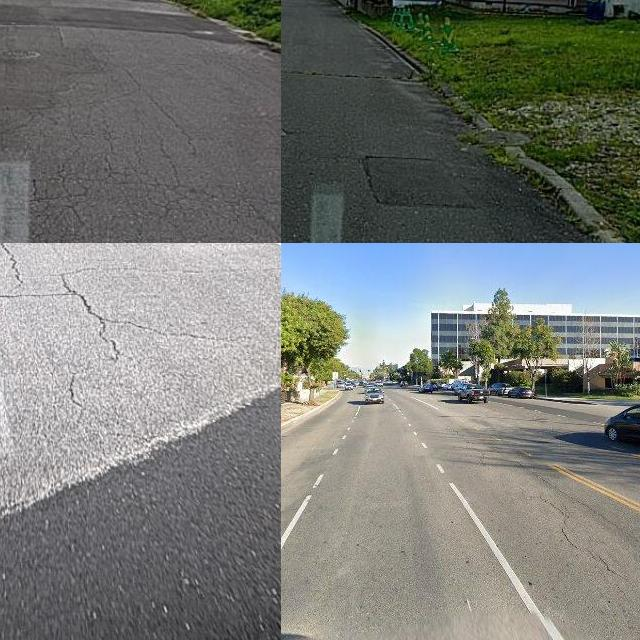Sambungan: (0, 243, 281, 512), (0, 0, 243, 42), (363, 157, 476, 204)
